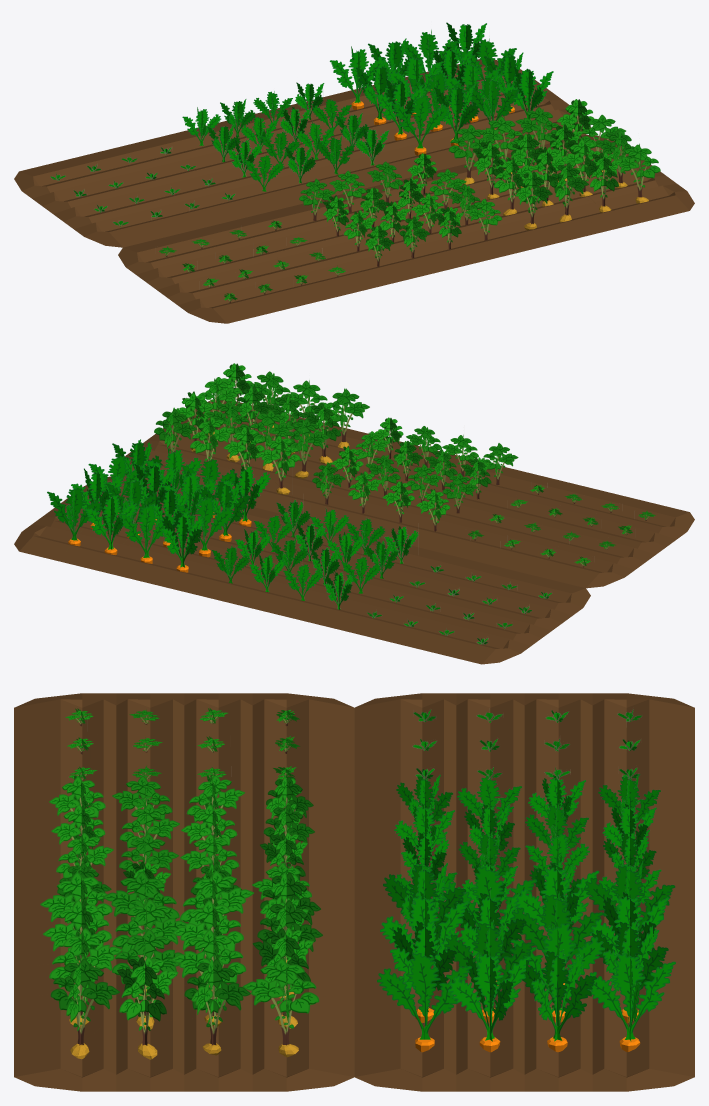
The model's file is farm.glb.
3 renders of one model, top to bottom at view 1: azimuth 30°, elevation 25°; view 2: azimuth 150°, elevation 25°; view 3: azimuth 270°, elevation 25°, orthographic. The views are drawn at different scales.
Visible parts, largest first — view 1: Soil, Soil.001, Carrot_F3, Potatoe_F3, Potatoe_F2, Carrot_F2, Potatoe_F1, Carrot_F1; view 2: Soil.001, Soil, Carrot_F3, Potatoe_F3, Potatoe_F2, Carrot_F2, Potatoe_F1, Carrot_F1; view 3: Soil, Soil.001, Carrot_F3, Potatoe_F3, Carrot_F2, Potatoe_F2, Potatoe_F1, Carrot_F1.
Part boxes in pixels (bbox=[...]): Soil: bbox=[118, 134, 694, 323]; Soil.001: bbox=[14, 59, 590, 247]; Carrot_F3: bbox=[329, 22, 553, 155]; Potatoe_F3: bbox=[448, 99, 660, 230]; Potatoe_F2: bbox=[299, 153, 502, 266]; Carrot_F2: bbox=[182, 82, 389, 191]; Potatoe_F1: bbox=[159, 220, 345, 302]; Carrot_F1: bbox=[50, 147, 235, 226]; Soil.001: bbox=[14, 476, 590, 664]; Soil: bbox=[125, 400, 694, 588]; Carrot_F3: bbox=[47, 439, 270, 572]; Potatoe_F3: bbox=[154, 363, 369, 494]; Potatoe_F2: bbox=[312, 417, 518, 531]; Carrot_F2: bbox=[212, 499, 418, 609]; Potatoe_F1: bbox=[468, 485, 655, 567]; Carrot_F1: bbox=[367, 565, 551, 644]; Soil: bbox=[14, 693, 354, 1091]; Soil.001: bbox=[354, 693, 694, 1091]; Carrot_F3: bbox=[377, 861, 675, 1052]; Potatoe_F3: bbox=[40, 870, 322, 1059]; Carrot_F2: bbox=[394, 773, 661, 909]; Potatoe_F2: bbox=[49, 774, 314, 928]; Potatoe_F1: bbox=[65, 708, 300, 809]; Carrot_F1: bbox=[412, 709, 642, 806].
Size of the model in its own units: 7.52 by 0.844 by 5.43.
Materials: 3 (2 with a texture image).
